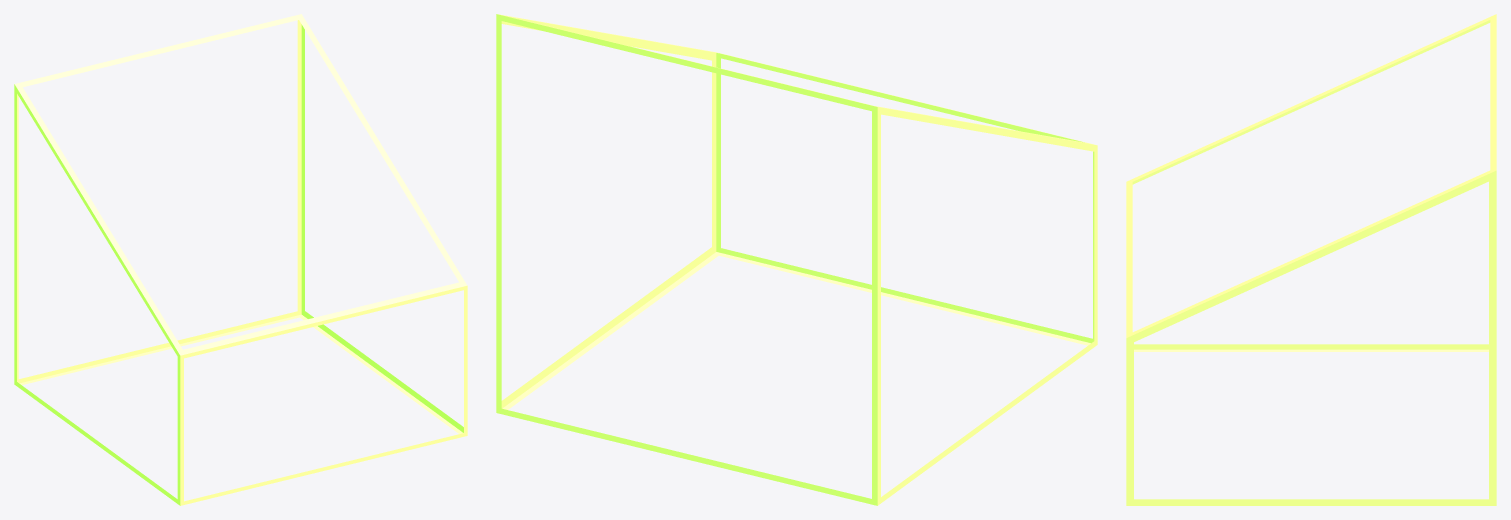
File: r2c2_highlight_green.glb
3 renders of one model, left to right at view 1: azimuth 30°, elevation 25°; view 2: azimuth 150°, elevation 25°; view 3: azimuth 270°, elevation 25°, orthographic. The views are drawn at different scales.
Visible parts, largest first — view 1: r2c2_highlight_green; view 2: r2c2_highlight_green; view 3: r2c2_highlight_green.
Part boxes in pixels (x1,y1,x2,y2): r2c2_highlight_green: (14, 14, 467, 505); r2c2_highlight_green: (496, 14, 1097, 505); r2c2_highlight_green: (1126, 14, 1496, 505).
Size of the model in its own units: 2 by 2 by 2.
